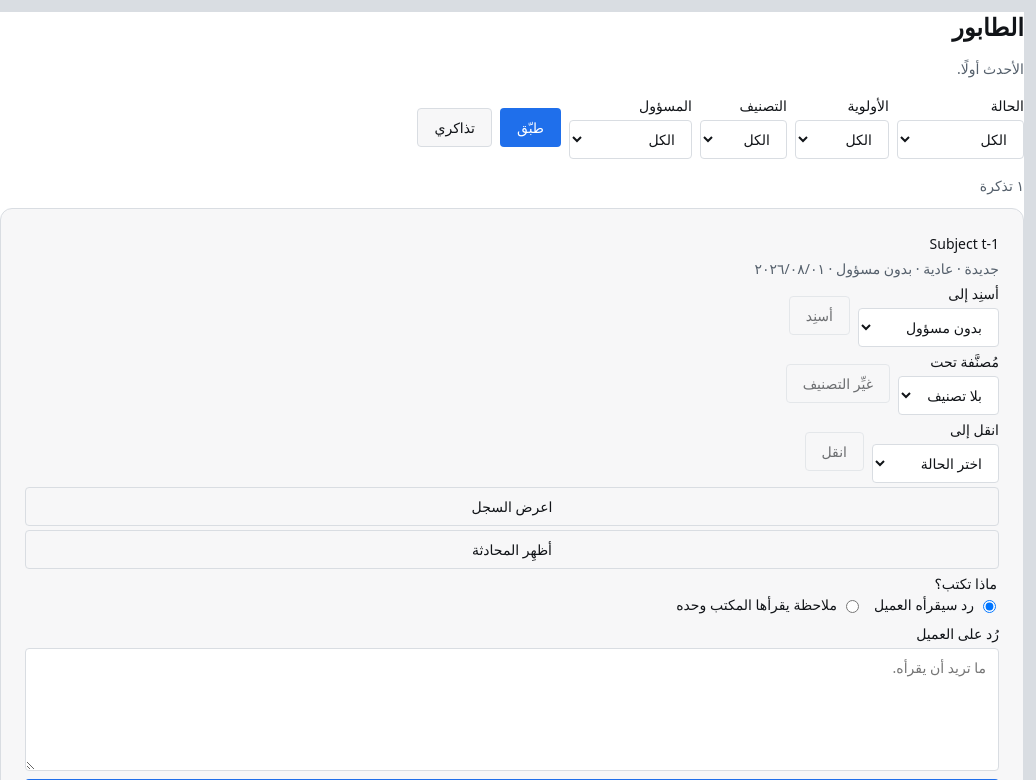
Test: and it says it in Arabic too
The image size is (1036, 780).
Expected: the text "Subject t-1" is shown, [930, 234, 999, 253]
Select "مفتوحة" in the dropdown labelled "انقل إلى": x=936, y=464 [872, 444, 999, 483]
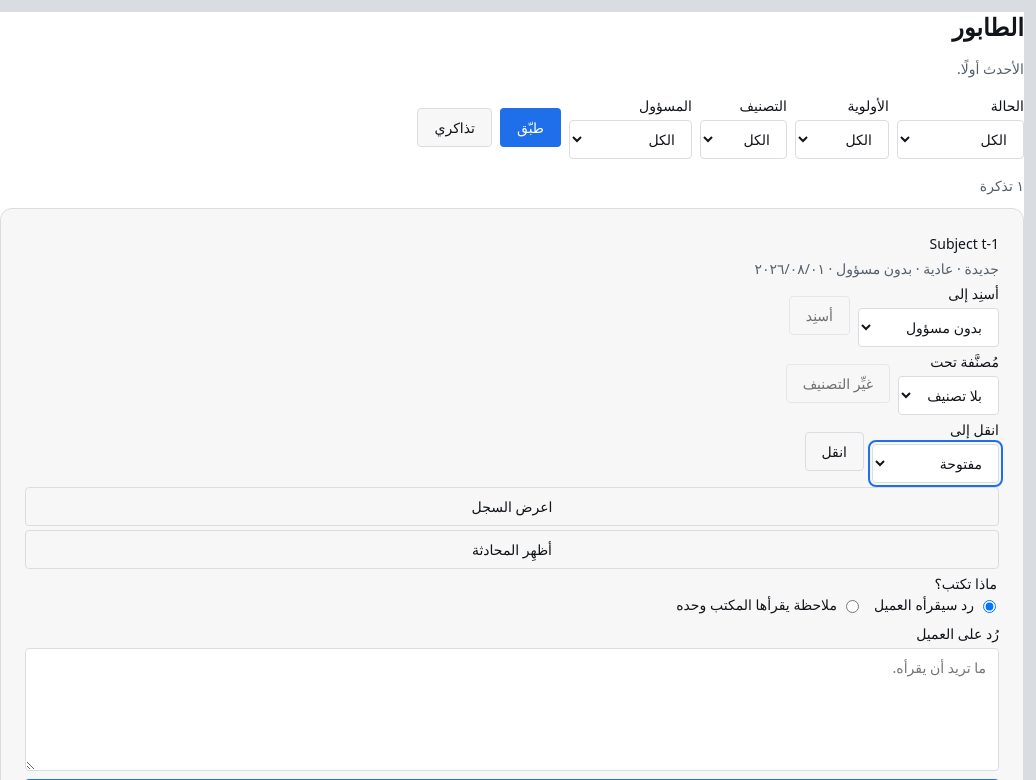
Click the button "انقل": x=834, y=451 [804, 432, 864, 470]
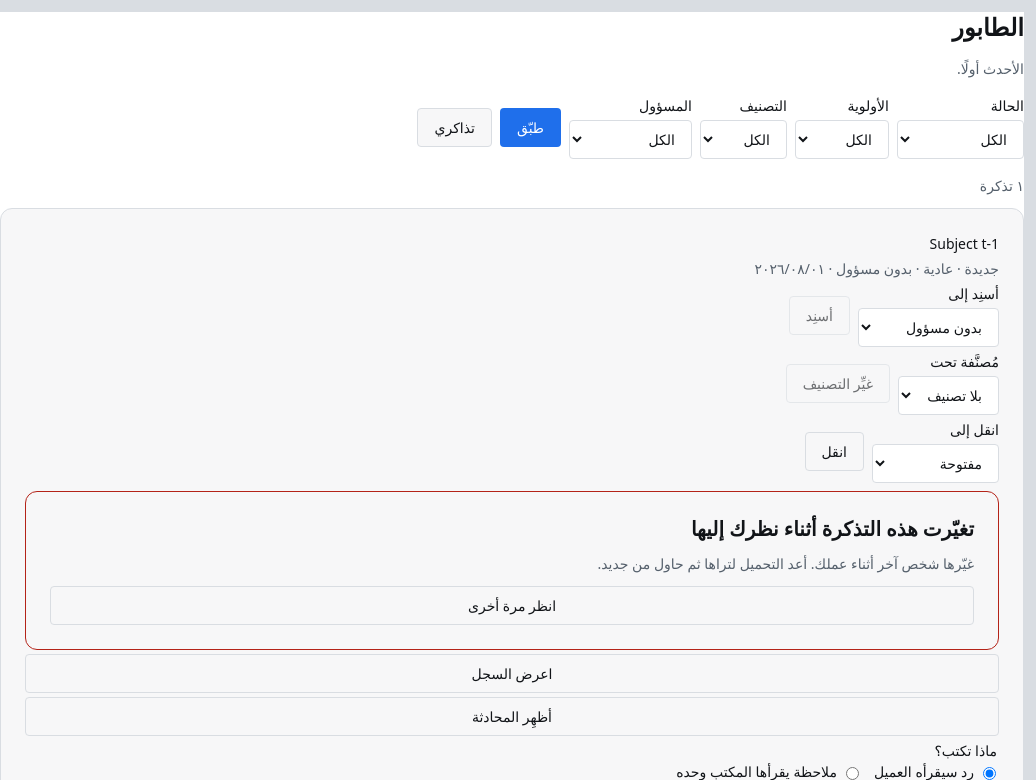
Now the heading "تغيّرت هذه التذكرة أثناء نظرك إليها" is shown, box [691, 515, 974, 542]
